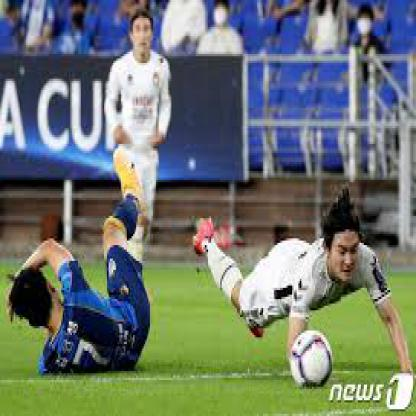Fall_Down: (192, 183, 414, 384)
